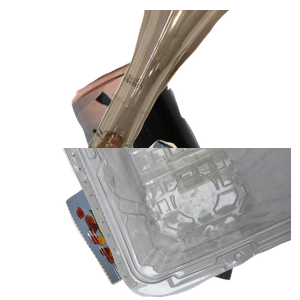glass: (80, 10, 300, 182)
metal: (69, 58, 300, 238)
plastic: (60, 148, 300, 300)
trash: (63, 137, 289, 300)
